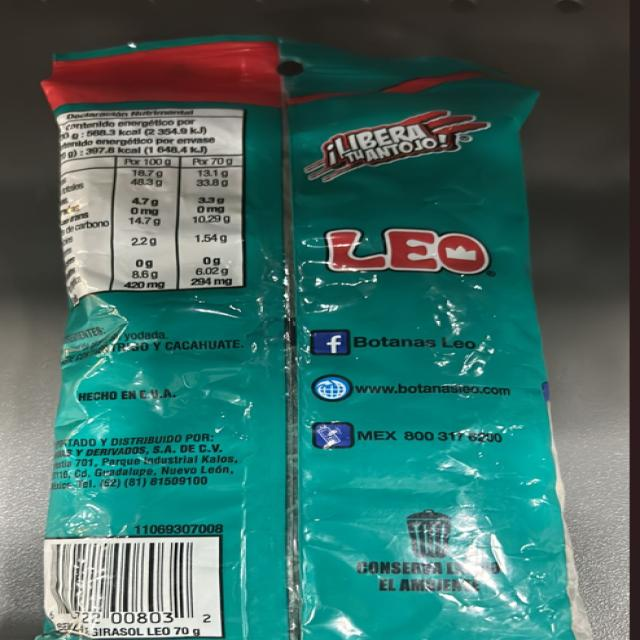productoAtras: (59, 53, 542, 640)
